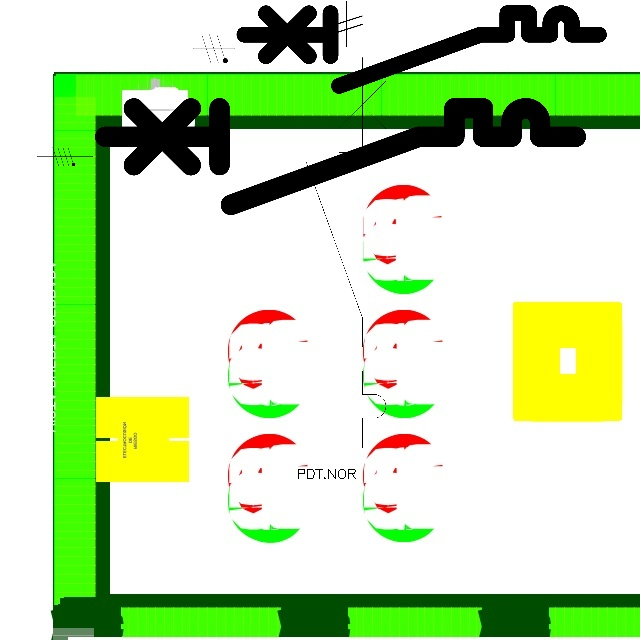interruptor_termomagnetico: (92, 96, 587, 217), (296, 47, 396, 458), (235, 4, 608, 95)
